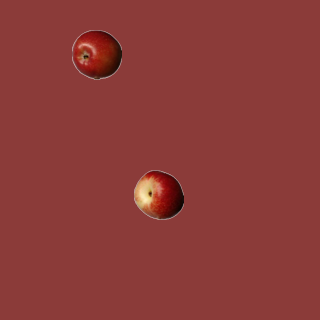Apple Braeburn: (71, 29, 121, 79)
Nectarine: (133, 169, 183, 219)
